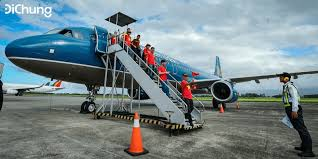maybay_dansu: (14, 20, 311, 117)
